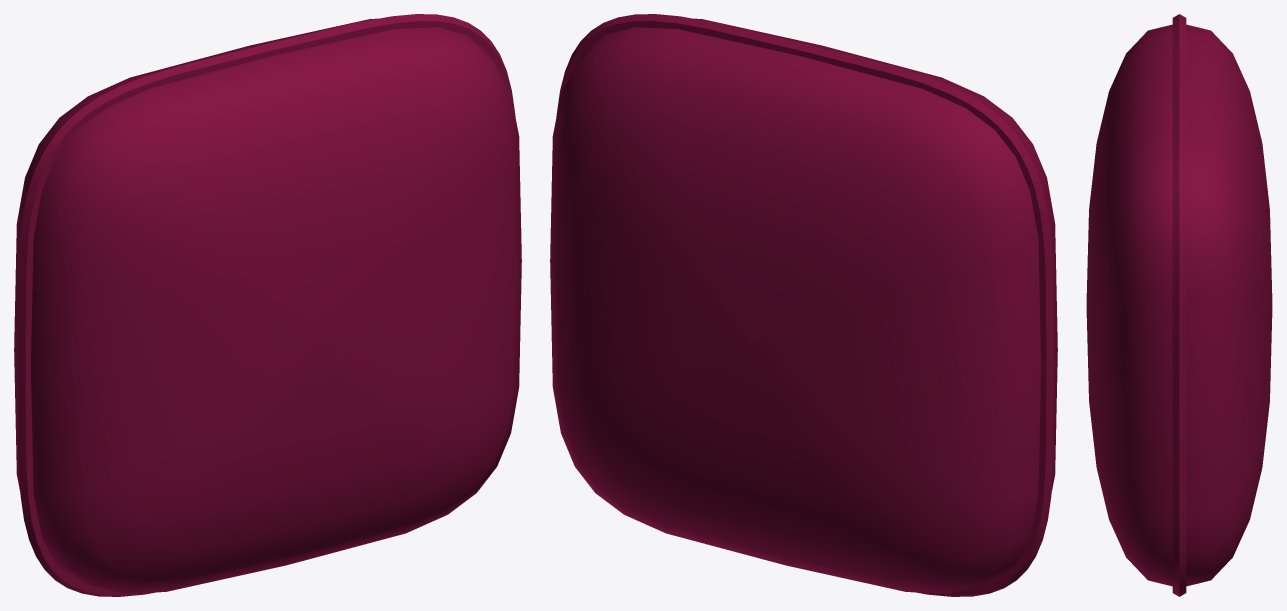
The model's file is JAC_07_Almofada.glb.
3 renders of one model, left to right at view 1: azimuth 30°, elevation 25°; view 2: azimuth 150°, elevation 25°; view 3: azimuth 270°, elevation 25°, orthographic. The views are drawn at different scales.
Visible parts, largest first — view 1: JAC_07_Almofada; view 2: JAC_07_Almofada; view 3: JAC_07_Almofada.
Boxes of the visible parts, bbox=[...] form: JAC_07_Almofada: bbox=[14, 14, 521, 596]; JAC_07_Almofada: bbox=[550, 14, 1057, 596]; JAC_07_Almofada: bbox=[1086, 14, 1272, 596].
Bounding box in the file's own units: 0.516 × 0.516 × 0.19.
